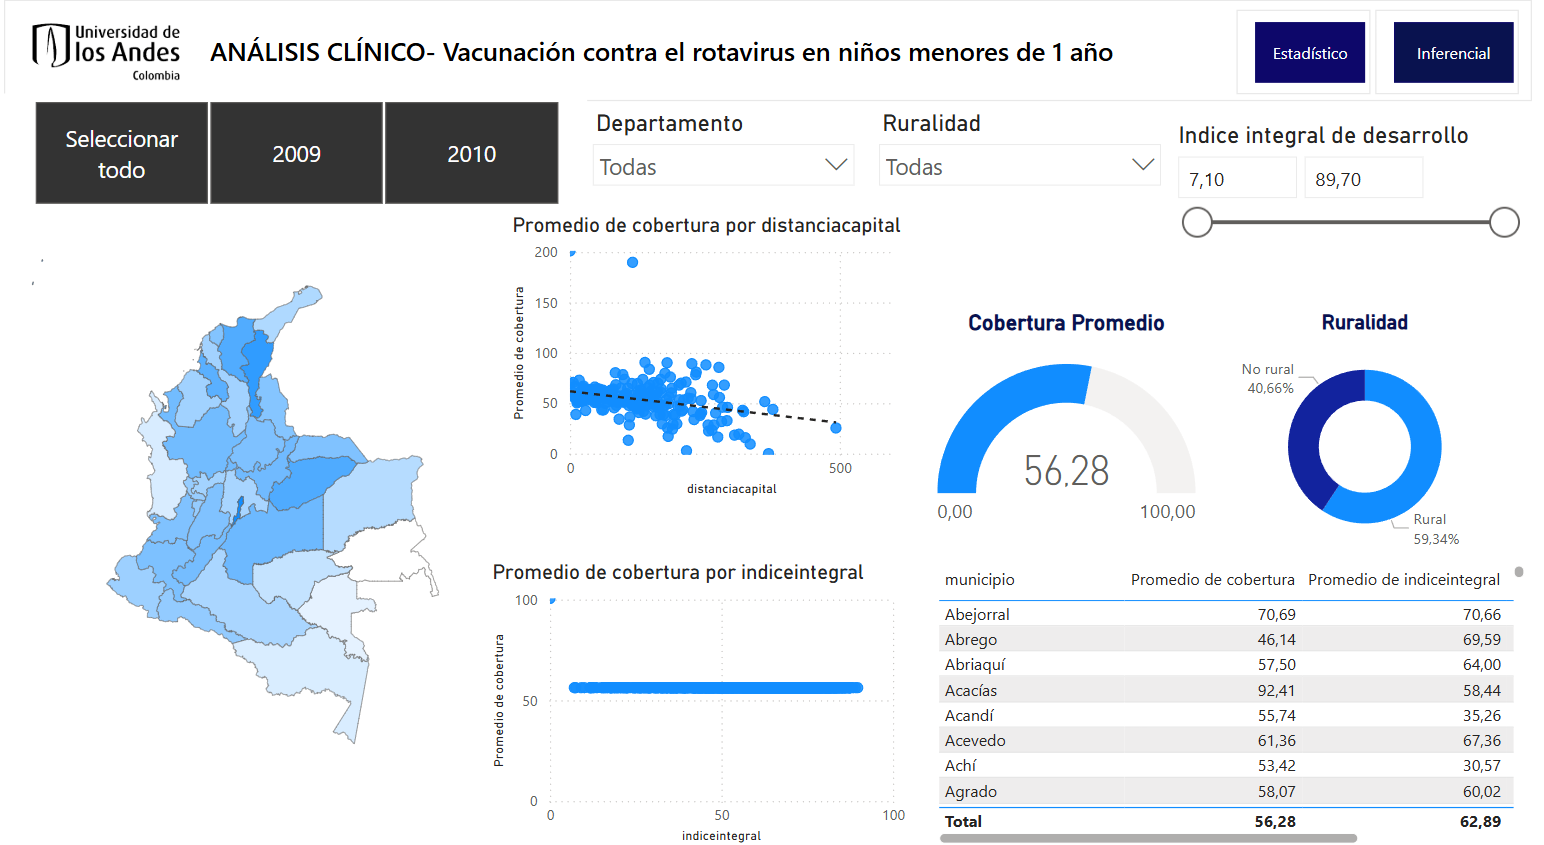

This screenshot's page, from the dashboard's own definition file:
{"tool":"powerbi","page":{"name":"Página 3","canvas":[1280,720],"ordinal":2},"visuals":[{"type":"shape","title":"null","box":[0,16,1266,84],"z":0,"group":"g2"},{"type":"image","box":[8,19,152,80],"z":0,"group":"g1"},{"type":"actionButton","box":[1036.3,33.9,91,50],"z":0,"group":"g3"},{"type":"actionButton","box":[1151.5,33.9,99,50],"z":0,"group":"g4"},{"type":"donutChart","title":"Ruralidad","fields":{"Category":["factmetricasdesarrollo.clasificacionruralprimaria"],"Y":["CountNonNull(factmetricasdesarrollo.clasificacionruralprimaria)"]},"box":[1008,272,240,208],"z":0},{"type":"group","id":"g1","title":"Group 1","box":[8,19,1258,80],"z":1000,"group":"g2"},{"type":"shape","box":[160,43,1106,30],"z":1000,"group":"g1"},{"type":"scatterChart","fields":{"X":["dimlugar.distanciacapital"],"Y":["Avg(factvacuna.cobertura)"]},"box":[416,192,336,240],"z":1000},{"type":"scatterChart","fields":{"Y":["Avg(factvacuna.cobertura)"],"X":["factmetricasdesarrollo.indiceintegral"]},"box":[400,480,352,240],"z":2000},{"type":"shapeMap","fields":{"Category":["dimlugar.departamento"],"Value":["Avg(factvacuna.cobertura)"]},"box":[0,192,384,480],"z":3000},{"type":"group","id":"g2","title":"Group 1","box":[0,16,1264,80],"z":4000},{"type":"shape","title":"null","box":[1020.8,23.5,111,70],"z":5000},{"type":"shape","title":"null","box":[1136,23.5,119,70],"z":6000},{"type":"group","id":"g3","title":"Group 1","box":[1036.3,33.9,91,50],"z":7000},{"type":"group","id":"g4","title":"Group 1","box":[1151.5,33.9,99,50],"z":8000},{"type":"slicer","fields":{"Values":["dimlugar.departamento"]},"box":[477.1,101.4,237.1,84.3],"z":9000},{"type":"slicer","fields":{"Values":["factmetricasdesarrollo.clasificacionruralprimaria"]},"box":[714.3,101.4,254.3,84.3],"z":10000},{"type":"slicer","title":"Año","fields":{"Values":["dimfecha.fecha"]},"box":[0,92.9,482.9,98.6],"z":11000},{"type":"gauge","title":"Cobertura Promedio","fields":{"Y":["Avg(factvacuna.cobertura)"]},"box":[768,272,224,208],"z":12000},{"type":"slicer","fields":{"Values":["factmetricasdesarrollo.indiceintegral"]},"box":[960,112,304,150],"z":13000},{"type":"tableEx","fields":{"Values":["dimlugar.municipio","Avg(factvacuna.cobertura)","Avg(factmetricasdesarrollo.indiceintegral)","Avg(dimlugar.distanciacapital)"]},"box":[768,480,496,240],"z":14000}]}

Visuals, with their boxes in screenshot pixels (x1, y1, x2, y2), scaled from the page's 1280x720 canvas onto the 1544x845 screenshot:
"null" shape: [0, 19, 1527, 117]
image: [10, 22, 193, 116]
actionButton: [1250, 40, 1360, 98]
actionButton: [1389, 40, 1508, 98]
"Ruralidad" donutChart: [1216, 319, 1505, 563]
"Group 1" group: [10, 22, 1527, 116]
shape: [193, 50, 1527, 86]
scatterChart - dimlugar.distanciacapital x Avg(factvacuna.cobertura): [502, 225, 907, 507]
scatterChart - Avg(factvacuna.cobertura) x factmetricasdesarrollo.indiceintegral: [482, 563, 907, 844]
shapeMap - dimlugar.departamento x Avg(factvacuna.cobertura): [0, 225, 463, 789]
"Group 1" group: [0, 19, 1525, 113]
"null" shape: [1231, 28, 1365, 110]
"null" shape: [1370, 28, 1514, 110]
"Group 1" group: [1250, 40, 1360, 98]
"Group 1" group: [1389, 40, 1508, 98]
slicer - dimlugar.departamento: [576, 119, 862, 218]
slicer - factmetricasdesarrollo.clasificacionruralprimaria: [862, 119, 1168, 218]
"Año" slicer: [0, 109, 582, 225]
"Cobertura Promedio" gauge: [926, 319, 1197, 563]
slicer - factmetricasdesarrollo.indiceintegral: [1158, 131, 1525, 307]
tableEx - dimlugar.municipio x Avg(factvacuna.cobertura): [926, 563, 1525, 844]
